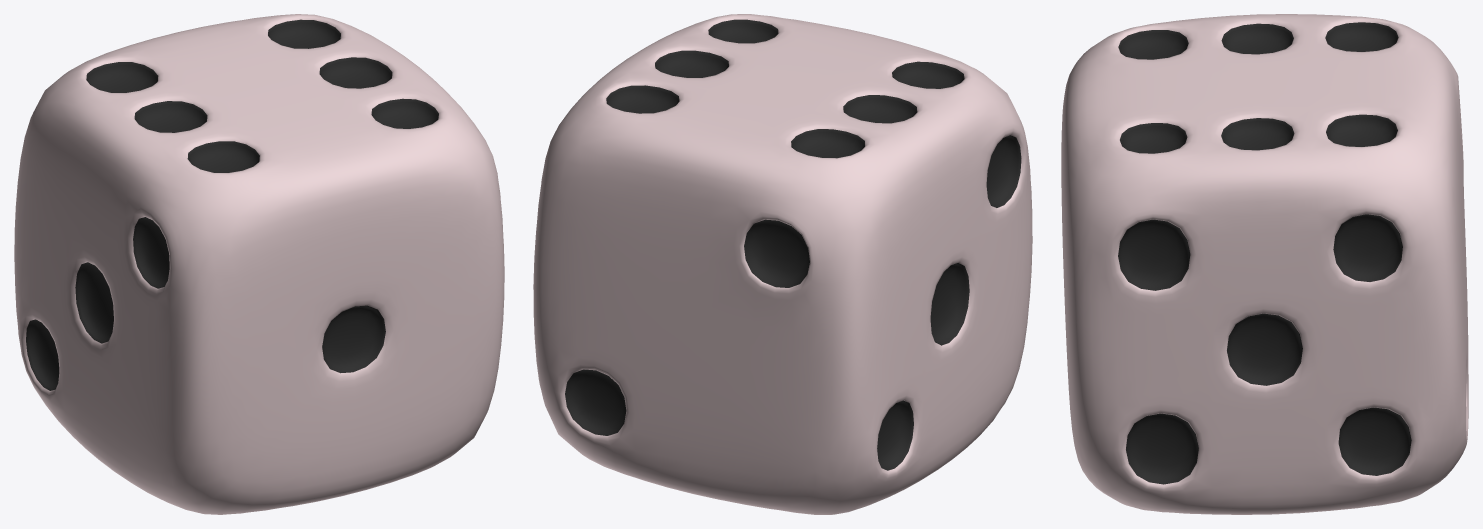
3 renders of one model, left to right at view 1: azimuth 30°, elevation 25°; view 2: azimuth 150°, elevation 25°; view 3: azimuth 270°, elevation 25°, orthographic. The views are drawn at different scales.
Parts seen in each view (by area): view 1: FREE_CASINO_CUBE_OBJ; view 2: FREE_CASINO_CUBE_OBJ; view 3: FREE_CASINO_CUBE_OBJ.
Boxes of the visible parts, x1,y1,x2,y2 form: FREE_CASINO_CUBE_OBJ: (14,14,504,514); FREE_CASINO_CUBE_OBJ: (533,14,1032,514); FREE_CASINO_CUBE_OBJ: (1061,14,1468,514).
Size of the model in its own units: 896 by 909 by 908.
